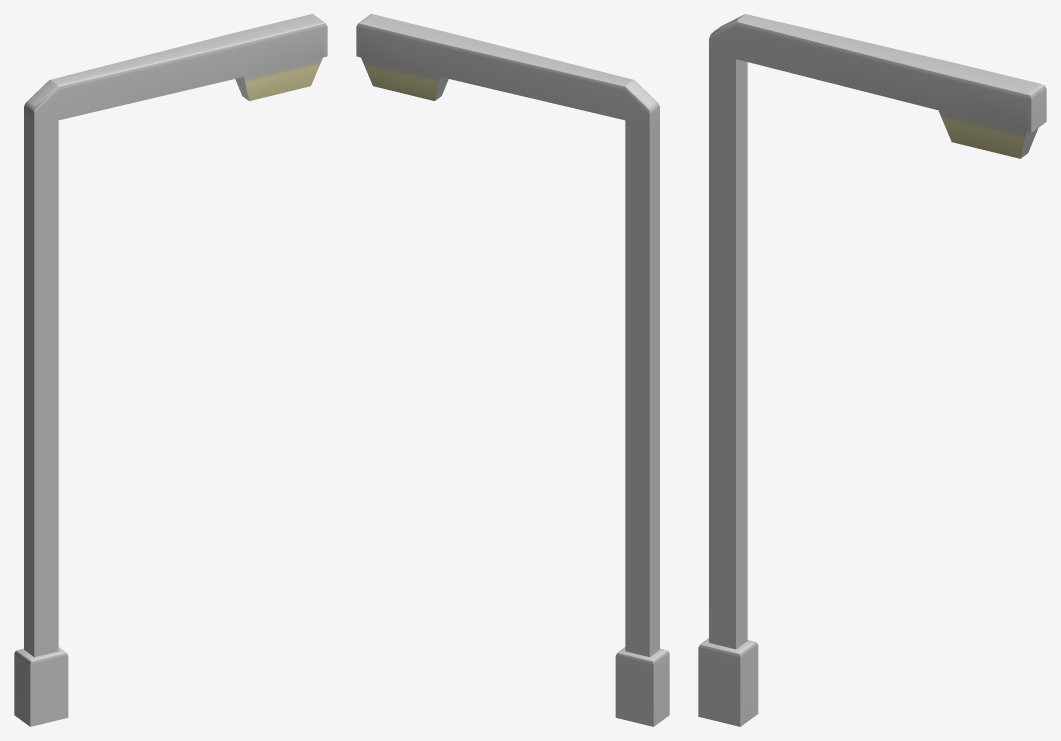
File: Lamp_01.fbx
The picture shows the model from 3 angles, left to right: view 1: azimuth 30°, elevation 25°; view 2: azimuth 150°, elevation 25°; view 3: azimuth 330°, elevation 25°; orthographic projection. The views are drawn at different scales.
Visible parts, largest first — view 1: pCube122; view 2: pCube122; view 3: pCube122.
Part boxes in pixels (box(x1,y1,x2,y2)): pCube122: box(14, 14, 327, 726); pCube122: box(356, 14, 669, 726); pCube122: box(698, 14, 1046, 726).
Size of the model in its own units: 2.25 by 4.55 by 0.2091.
